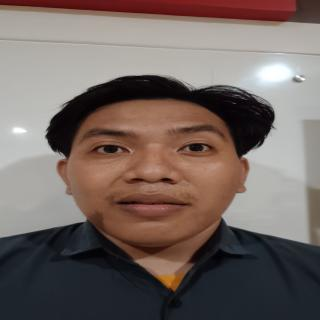Takut: (70, 100, 264, 254)
